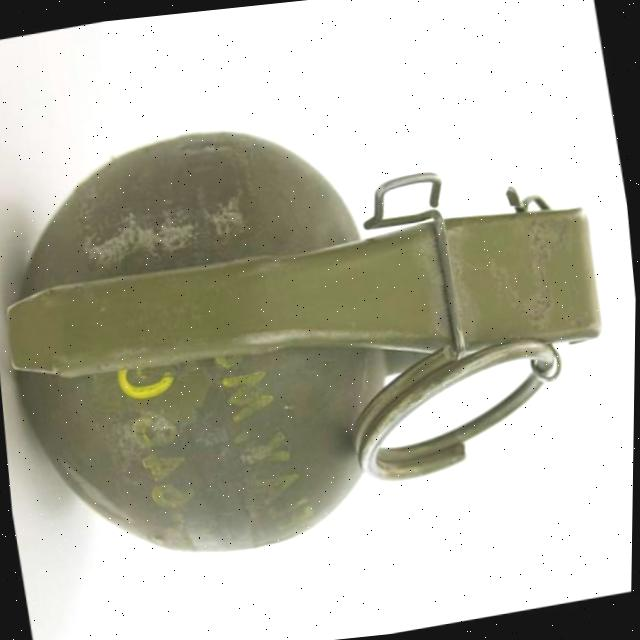grenade: (0, 57, 639, 601)
